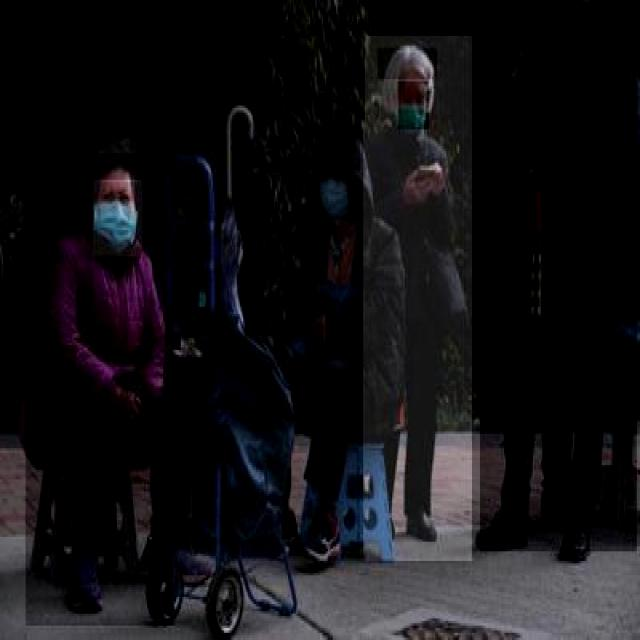face_mask: (91, 180, 142, 259), (318, 168, 354, 223), (546, 19, 584, 67), (397, 81, 429, 132)
hand_noglove: (110, 374, 148, 439), (405, 161, 445, 206), (550, 158, 570, 199), (306, 316, 323, 355), (528, 161, 542, 201)
head_nohelmet: (376, 48, 437, 81), (314, 130, 360, 172), (98, 139, 138, 182)
person: (478, 2, 637, 554), (23, 153, 172, 628), (363, 36, 472, 563), (280, 130, 395, 556)
shoes: (54, 532, 116, 619), (470, 496, 533, 561), (295, 496, 350, 568), (553, 506, 594, 570), (400, 492, 442, 544)
